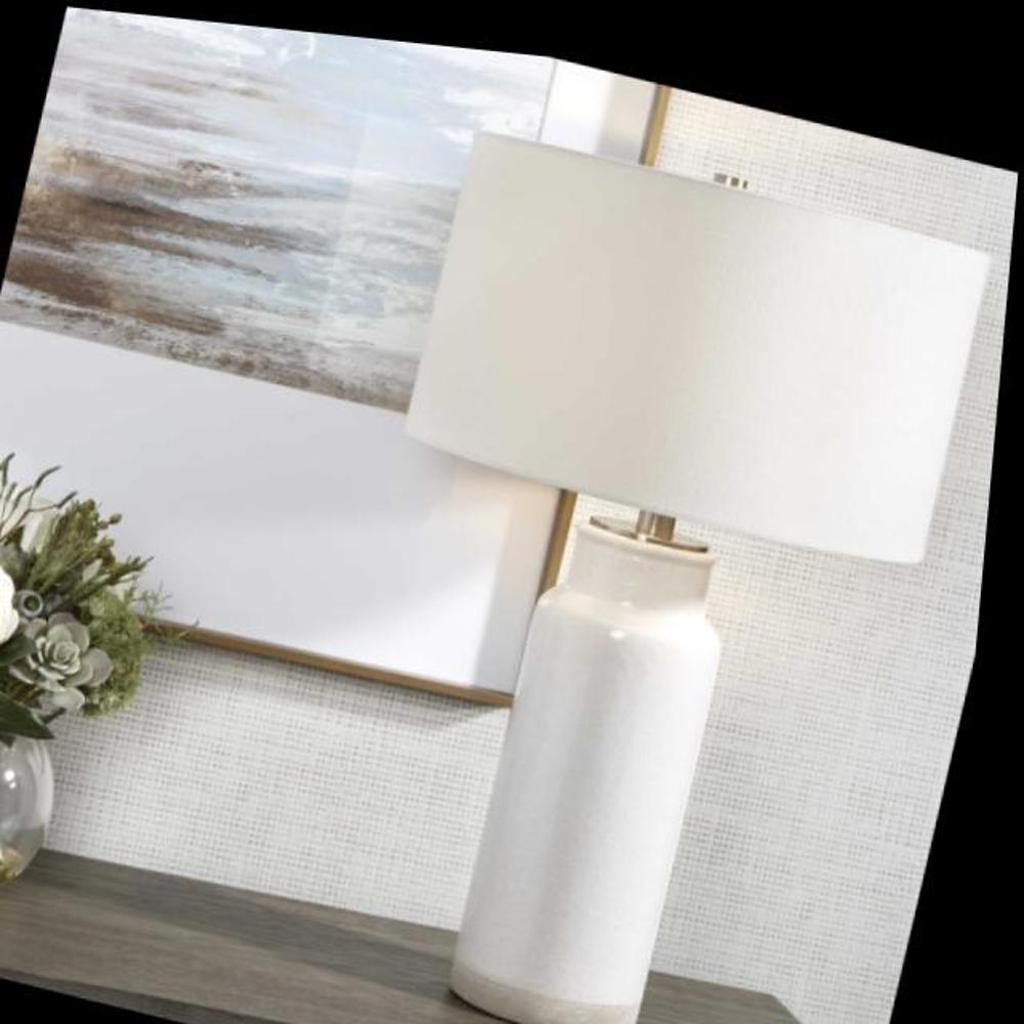shelf: (260, 67, 1021, 1024)
